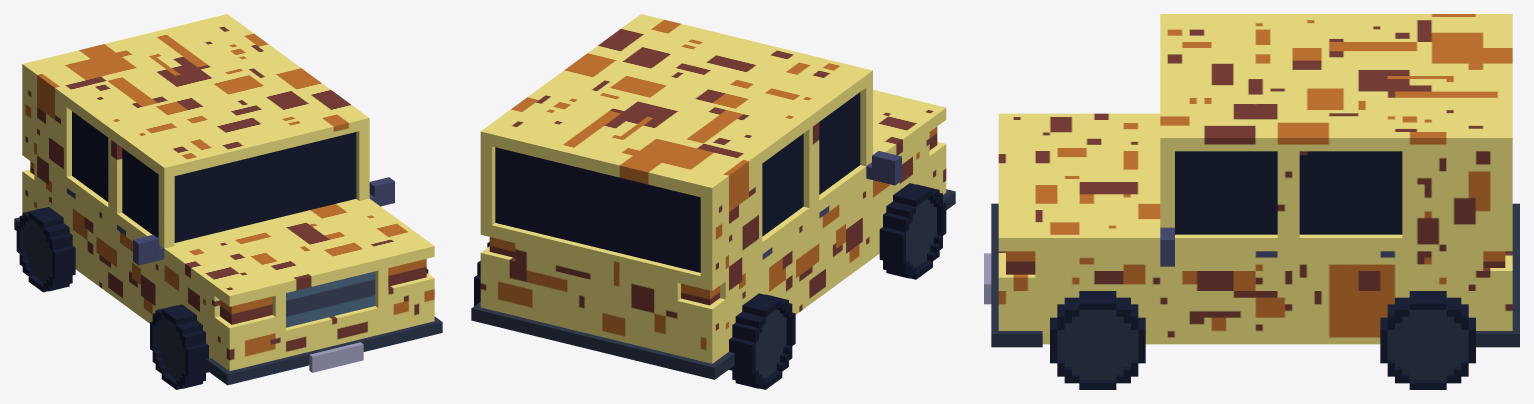
The model's file is ArmyCar.fbx.
The picture shows the model from 3 angles, left to right: view 1: azimuth 30°, elevation 25°; view 2: azimuth 150°, elevation 25°; view 3: azimuth 270°, elevation 25°; orthographic projection. The views are drawn at different scales.
Parts seen in each view (by area): view 1: Object; view 2: Object; view 3: Object.
Boxes of the visible parts, <box> form: Object: <box>14,14,442,389</box>; Object: <box>471,14,955,389</box>; Object: <box>984,14,1519,389</box>.
Bounding box in the file's own units: 50 × 36 × 73.
